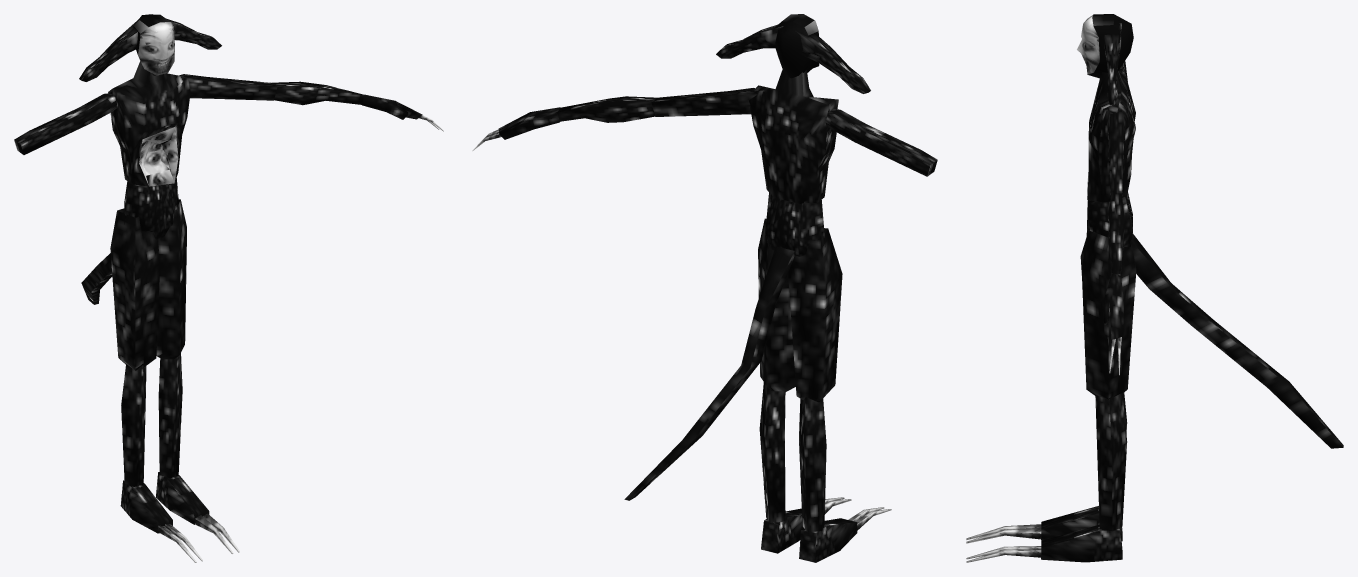
Rendered from psx-ghost.glb.
3 renders of one model, left to right at view 1: azimuth 30°, elevation 25°; view 2: azimuth 150°, elevation 25°; view 3: azimuth 270°, elevation 25°, orthographic. The views are drawn at different scales.
Parts seen in each view (by area): view 1: Object_4; view 2: Object_4; view 3: Object_4.
Part boxes in pixels (left/top/right/bottom): Object_4: left=14, top=14, right=443, bottom=562; Object_4: left=472, top=14, right=937, bottom=562; Object_4: left=966, top=14, right=1343, bottom=562.
Bounding box in the file's own units: 11.16 × 12.43 × 7.95.
1 material, 1 textured.
